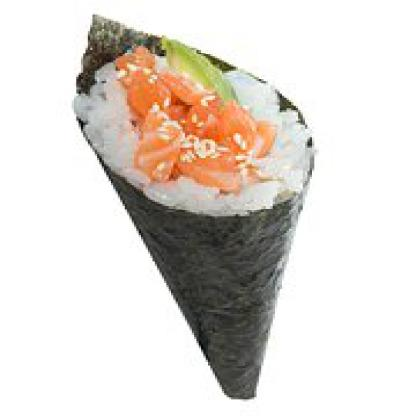sake_hand_roll: (73, 18, 319, 416)
